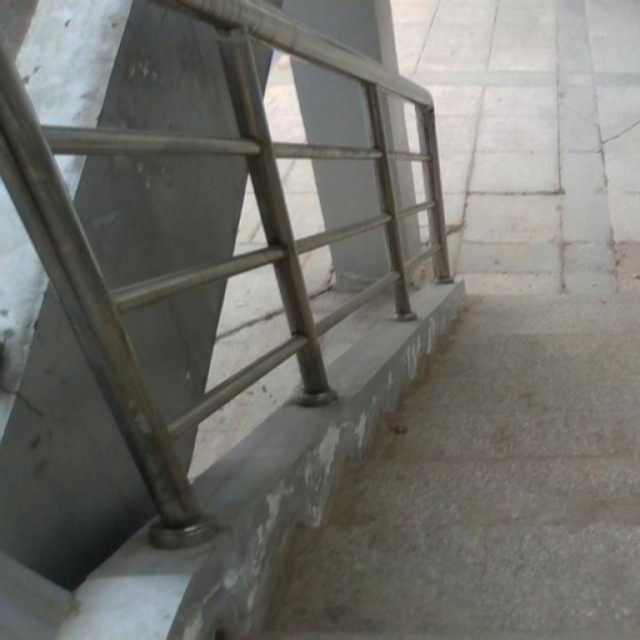stair: (306, 295, 635, 626)
